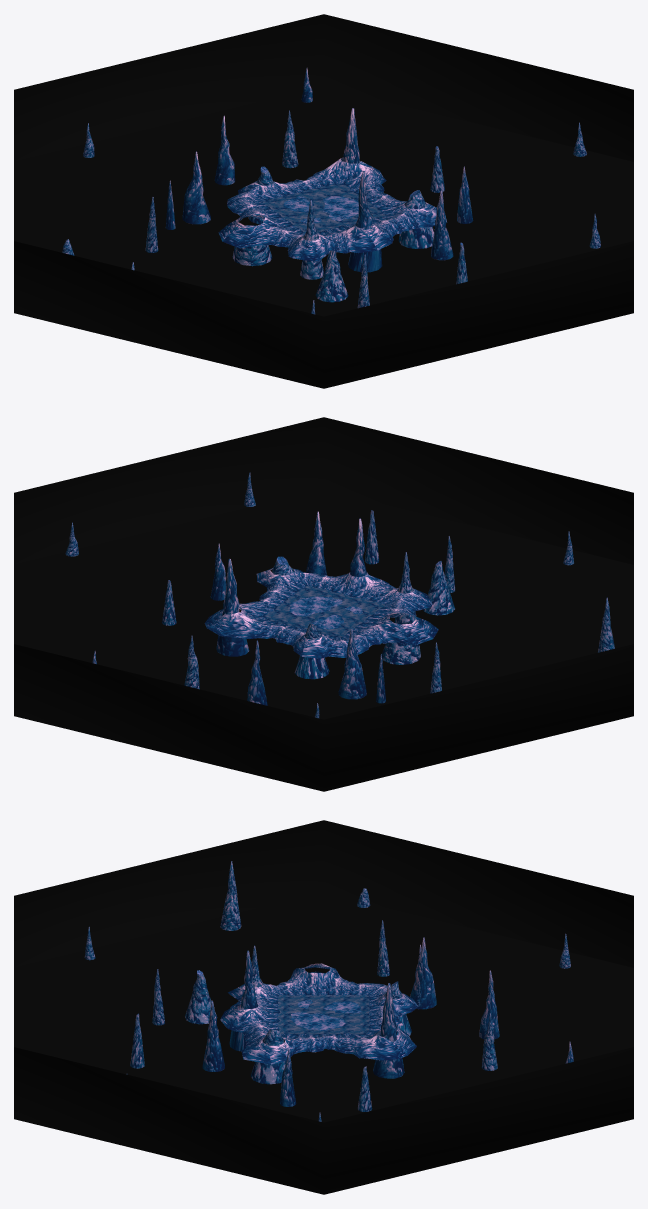
File: escenario.obj
3 views of the same model, one above another, from view 1: azimuth 30°, elevation 25°; view 2: azimuth 150°, elevation 25°; view 3: azimuth 270°, elevation 25° (orthographic).
Parts seen in each view (by area): view 1: polygon70, polygon11, polygon9, polygon54, polygon10, polygon55, polygon16, polygon68, polygon25, polygon18, polygon13, polygon51 (+1 smaller); view 2: polygon70, polygon11, polygon9, polygon10, polygon54, polygon16, polygon55, polygon22, polygon68, polygon13, polygon14, polygon17 (+1 smaller); view 3: polygon70, polygon11, polygon9, polygon10, polygon54, polygon55, polygon25, polygon68, polygon13, polygon51, polygon17, polygon14 (+1 smaller).
Boxes of the visible parts, bbox=[...] form: polygon70: bbox=[14, 14, 633, 388]; polygon11: bbox=[218, 157, 446, 261]; polygon9: bbox=[263, 183, 384, 238]; polygon54: bbox=[182, 151, 210, 224]; polygon10: bbox=[283, 196, 358, 223]; polygon55: bbox=[214, 115, 235, 185]; polygon16: bbox=[232, 225, 272, 266]; polygon68: bbox=[315, 273, 348, 302]; polygon25: bbox=[398, 226, 434, 248]; polygon18: bbox=[348, 249, 382, 272]; polygon13: bbox=[343, 108, 359, 163]; polygon51: bbox=[457, 166, 473, 223]; polygon70: bbox=[14, 417, 633, 791]; polygon11: bbox=[204, 568, 438, 658]; polygon9: bbox=[264, 586, 385, 637]; polygon10: bbox=[289, 596, 362, 629]; polygon54: bbox=[338, 627, 366, 699]; polygon16: bbox=[381, 622, 420, 664]; polygon55: bbox=[247, 640, 267, 705]; polygon22: bbox=[294, 656, 329, 679]; polygon68: bbox=[423, 586, 454, 615]; polygon13: bbox=[222, 558, 239, 615]; polygon14: bbox=[216, 635, 249, 656]; polygon17: bbox=[350, 518, 366, 576]; polygon70: bbox=[14, 820, 633, 1194]; polygon11: bbox=[220, 963, 418, 1064]; polygon9: bbox=[277, 995, 380, 1035]; polygon10: bbox=[290, 999, 361, 1031]; polygon54: bbox=[410, 937, 436, 1009]; polygon55: bbox=[479, 970, 499, 1039]; polygon25: bbox=[250, 1061, 286, 1084]; polygon68: bbox=[185, 995, 217, 1024]; polygon13: bbox=[381, 983, 396, 1042]; polygon51: bbox=[280, 1049, 296, 1106]; polygon17: bbox=[241, 950, 257, 1008]; polygon14: bbox=[373, 1057, 404, 1078].
Bounding box in the file's own units: 90 × 13.54 × 77.94.
6 materials, 6 textured.
